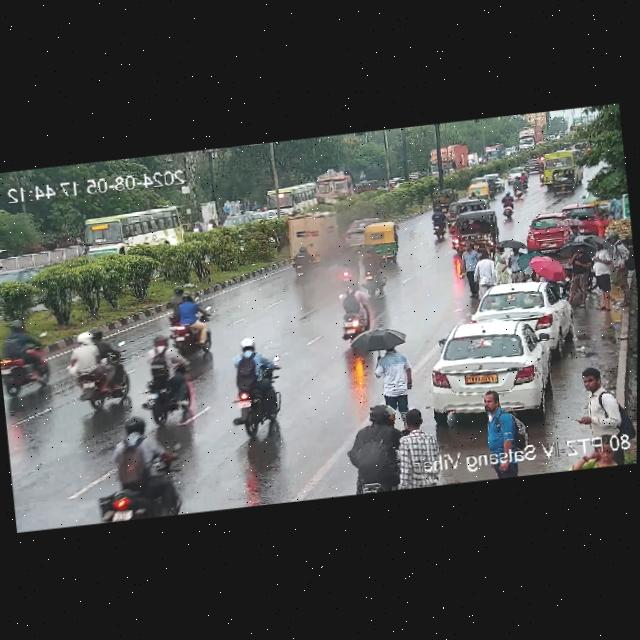bus: (79, 204, 185, 260), (264, 182, 318, 216), (537, 149, 585, 175), (514, 122, 547, 154), (479, 142, 505, 160)
car: (423, 303, 570, 422), (465, 277, 578, 333), (522, 211, 584, 255), (558, 200, 610, 240), (448, 210, 498, 250), (360, 219, 399, 261), (445, 197, 491, 220), (548, 168, 577, 195), (429, 188, 459, 214), (344, 215, 381, 233), (465, 180, 490, 202), (504, 165, 529, 184)
motorcycle: (85, 410, 187, 523), (223, 327, 293, 440), (340, 402, 409, 493), (61, 326, 135, 409), (0, 316, 65, 402), (144, 335, 200, 428), (328, 274, 382, 347), (166, 286, 217, 361), (426, 202, 453, 246), (496, 189, 520, 223)
person: (565, 364, 633, 469), (477, 387, 532, 478), (389, 403, 446, 489), (369, 343, 418, 428), (585, 233, 633, 311), (470, 250, 499, 298)
truck: (280, 209, 341, 269), (312, 165, 380, 205), (427, 142, 469, 177)
